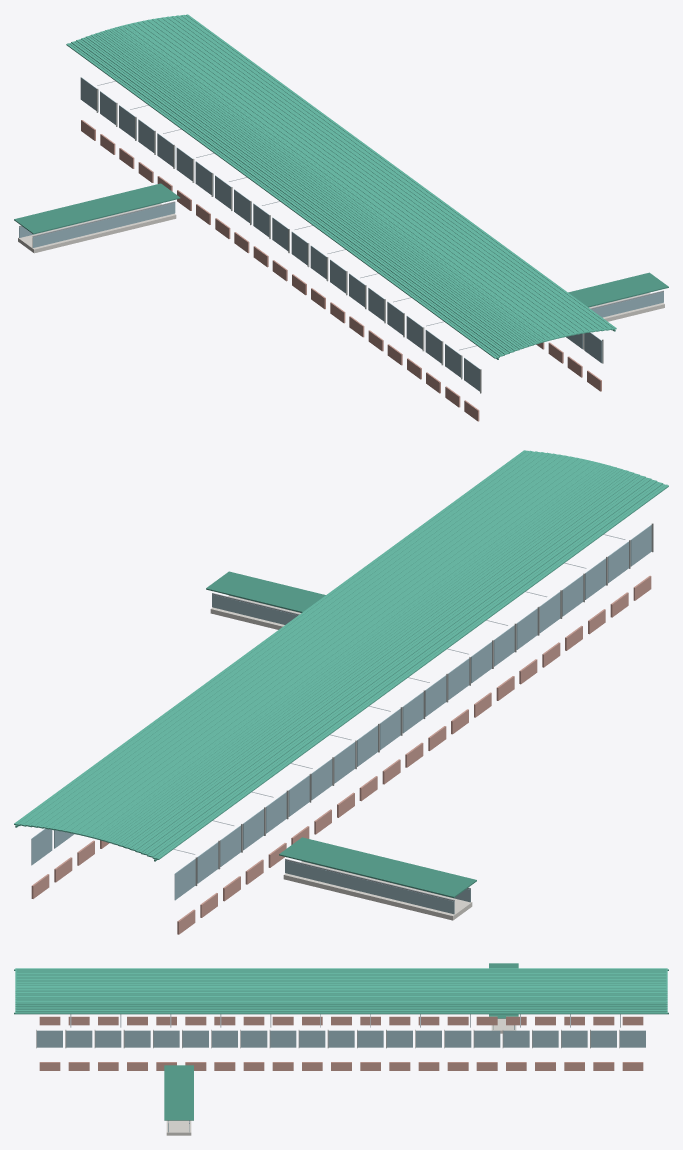
The model's file is station-11-photo-reference.glb.
3 views of the same model, one above another, from view 1: azimuth 30°, elevation 25°; view 2: azimuth 150°, elevation 25°; view 3: azimuth 270°, elevation 25° (orthographic). The views are drawn at different scales.
Visible parts, largest first — view 1: Station 11 photo-informed architecture and surroundings; view 2: Station 11 photo-informed architecture and surroundings; view 3: Station 11 photo-informed architecture and surroundings.
Part boxes in pixels (x1,y1,x2,y2): Station 11 photo-informed architecture and surroundings: (14, 14, 668, 421); Station 11 photo-informed architecture and surroundings: (14, 450, 668, 934); Station 11 photo-informed architecture and surroundings: (14, 963, 668, 1135).
Bounding box in the file's own units: 89 × 18.91 × 157.
